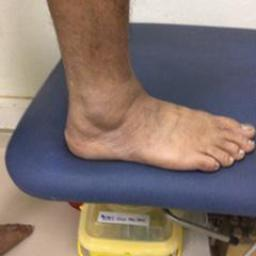Lateral View -Right Foot-: (56, 56, 255, 184)
